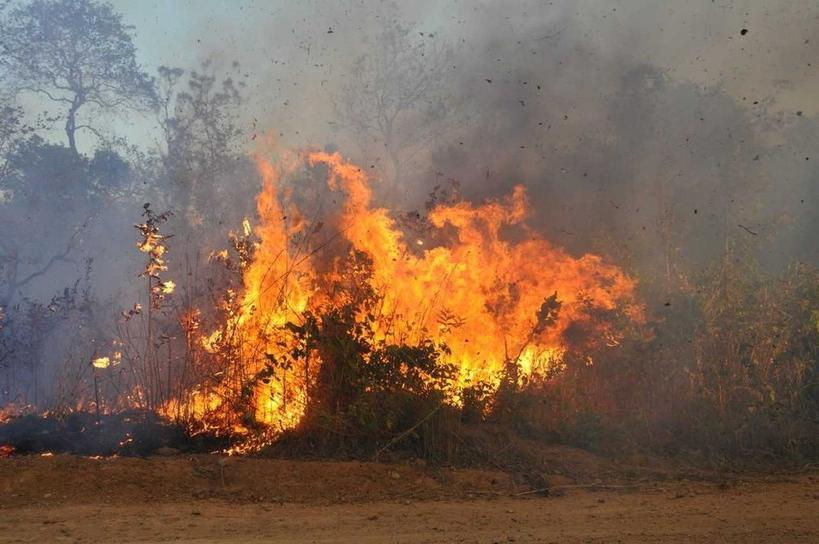Fire: (180, 149, 632, 425)
